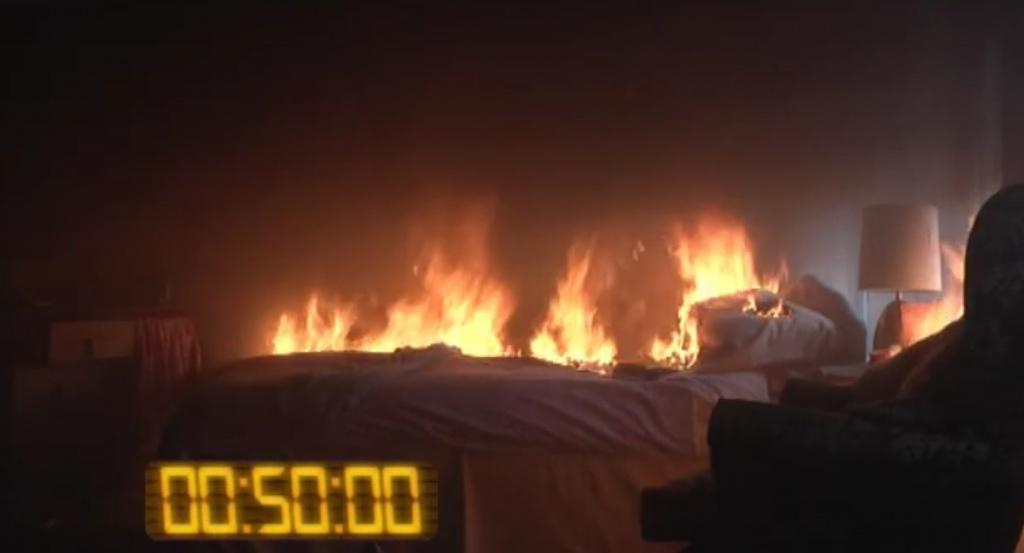fire: (255, 206, 521, 373), (533, 211, 780, 377), (882, 241, 975, 362)
